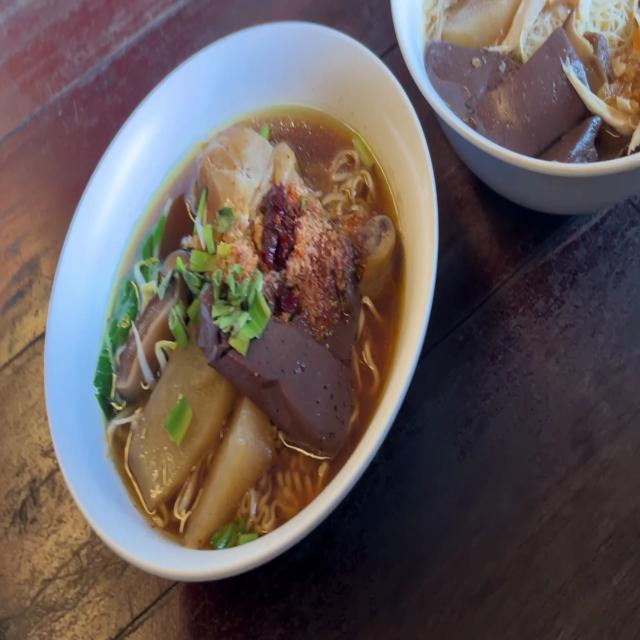noodle: (429, 38, 602, 164), (256, 322, 357, 443)
